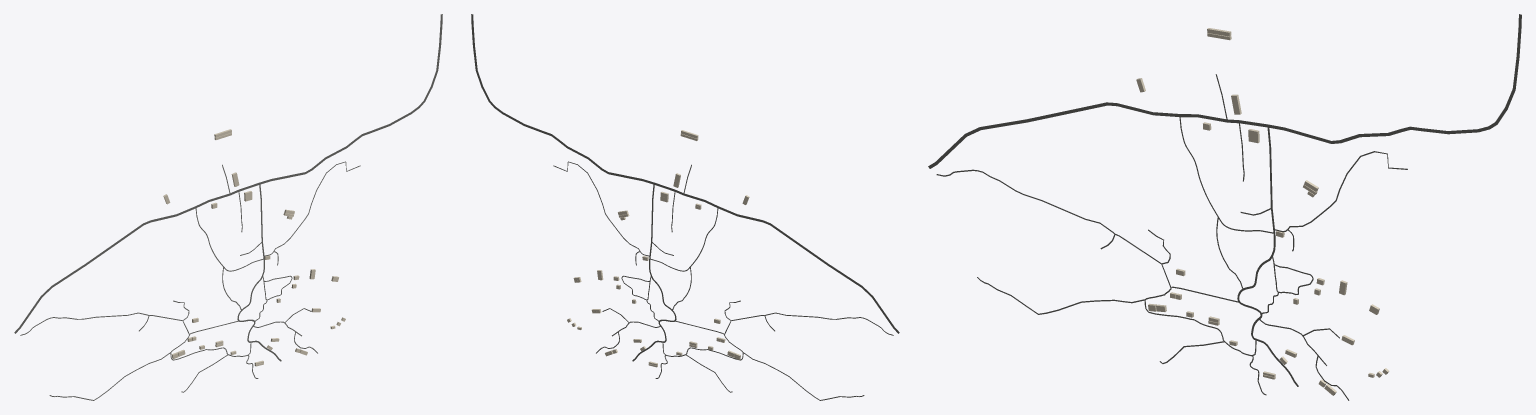
Rendered from historic-palestine-11_27_3527_3215.glb.
3 renders of one model, left to right at view 1: azimuth 30°, elevation 25°; view 2: azimuth 150°, elevation 25°; view 3: azimuth 330°, elevation 25°, orthographic. The views are drawn at different scales.
Parts seen in each view (by area): view 1: Road حاجز حوارة, Road .018; view 2: Road حاجز حوارة, Road .018; view 3: Road حاجز حوارة, Road .018, Road .013.
Part boxes in pixels (x1,y1,x2,y2): Road حاجز حوارة: (14,14,442,333); Road .018: (237,183,281,361); Road حاجز حوارة: (471,14,899,333); Road .018: (632,184,676,361); Road حاجز حوارة: (928,14,1521,168); Road .018: (1237,126,1298,386); Road .013: (936,169,1239,302).
Size of the model in its own units: 1583 by 1129 by 8.7.
